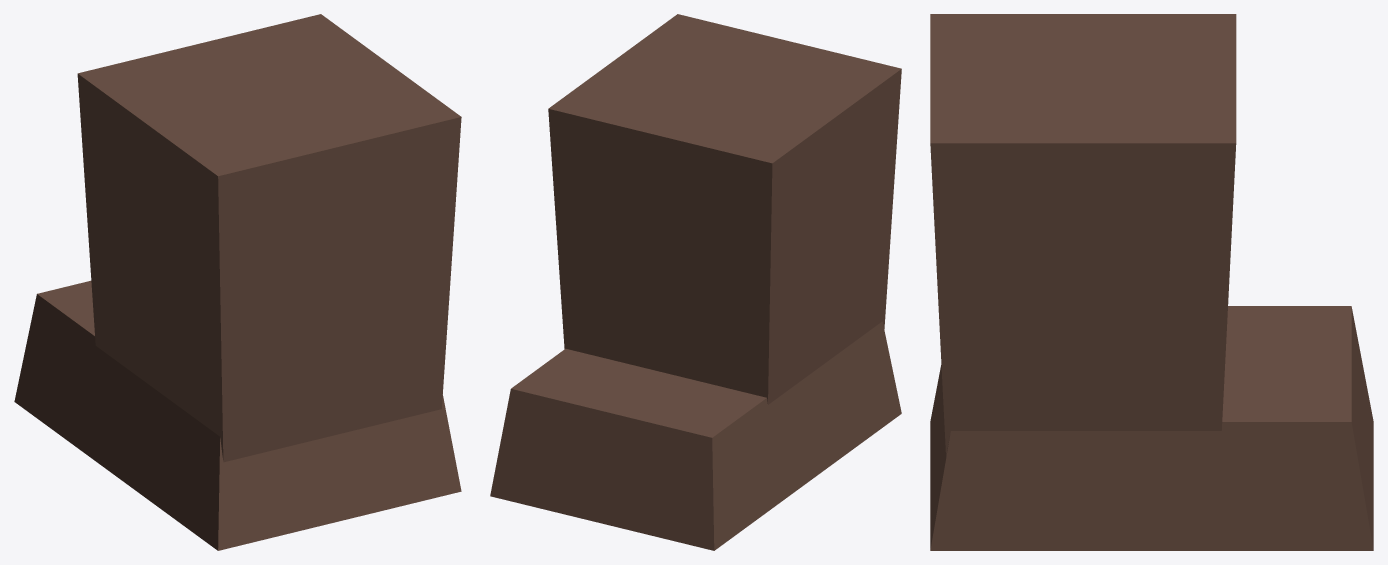
The model's file is animal_alphabeaver_leg.obj.
3 renders of one model, left to right at view 1: azimuth 30°, elevation 25°; view 2: azimuth 150°, elevation 25°; view 3: azimuth 270°, elevation 25°, orthographic. The views are drawn at different scales.
Visible parts, largest first — view 1: animal_alphabeaver_leg; view 2: animal_alphabeaver_leg; view 3: animal_alphabeaver_leg.
Part boxes in pixels (x1,y1,x2,y2): animal_alphabeaver_leg: (14,14,461,550); animal_alphabeaver_leg: (490,14,901,550); animal_alphabeaver_leg: (930,14,1373,550).
Bounding box in the file's own units: 0.0748 × 0.11 × 0.1084.
